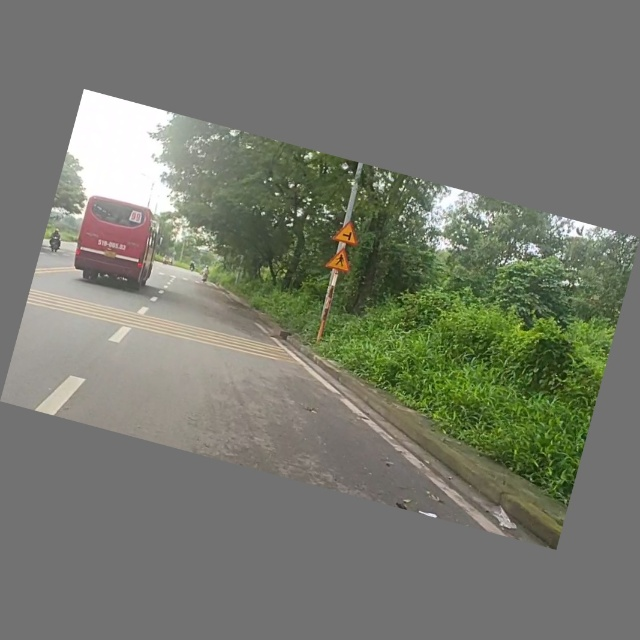W.205c: (331, 217, 368, 249)
W.224: (325, 245, 359, 277)
